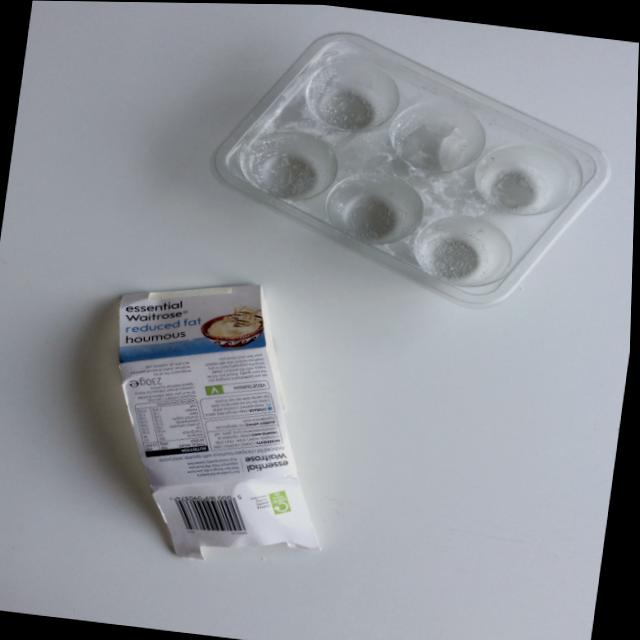Paper: (51, 249, 372, 585)
Plastic: (177, 2, 640, 328)
